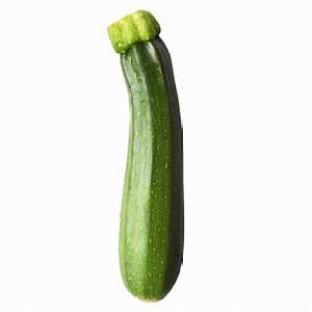Zucchini: (109, 11, 183, 300)
